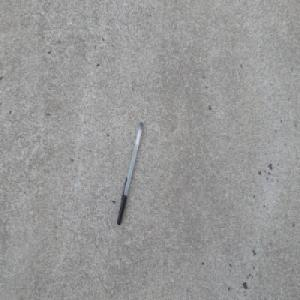Pen: (116, 120, 144, 225)
